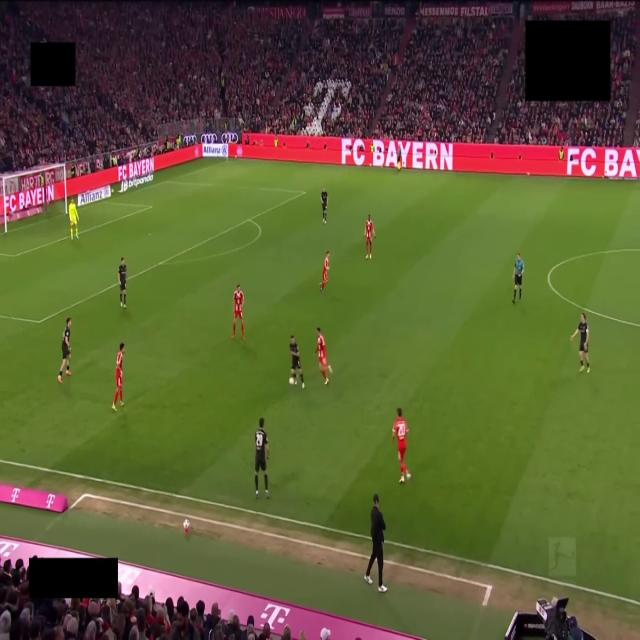ball: (289, 377, 294, 384)
player: (392, 408, 410, 483), (571, 313, 589, 373), (255, 417, 268, 498), (316, 328, 332, 384), (58, 318, 71, 383), (112, 343, 124, 411), (290, 336, 304, 389), (232, 285, 244, 340), (365, 216, 375, 259), (118, 257, 126, 308), (68, 200, 78, 239), (321, 251, 329, 292), (321, 188, 327, 223)
referee: (513, 254, 524, 303)
